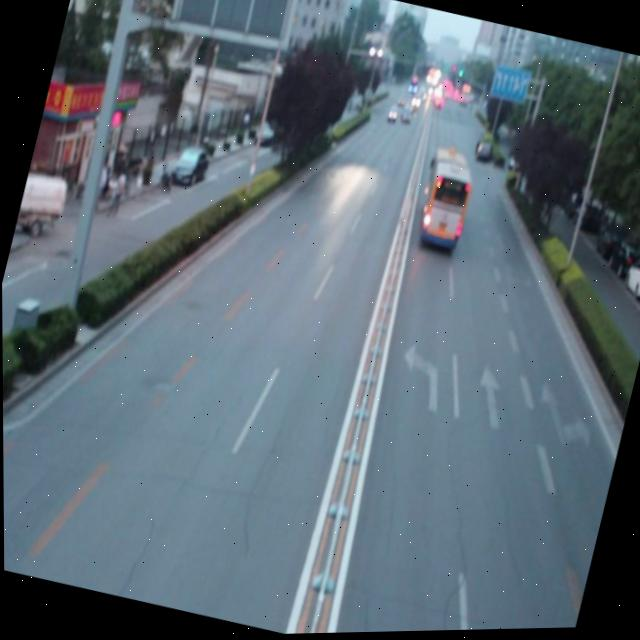van: (411, 147, 478, 253)
